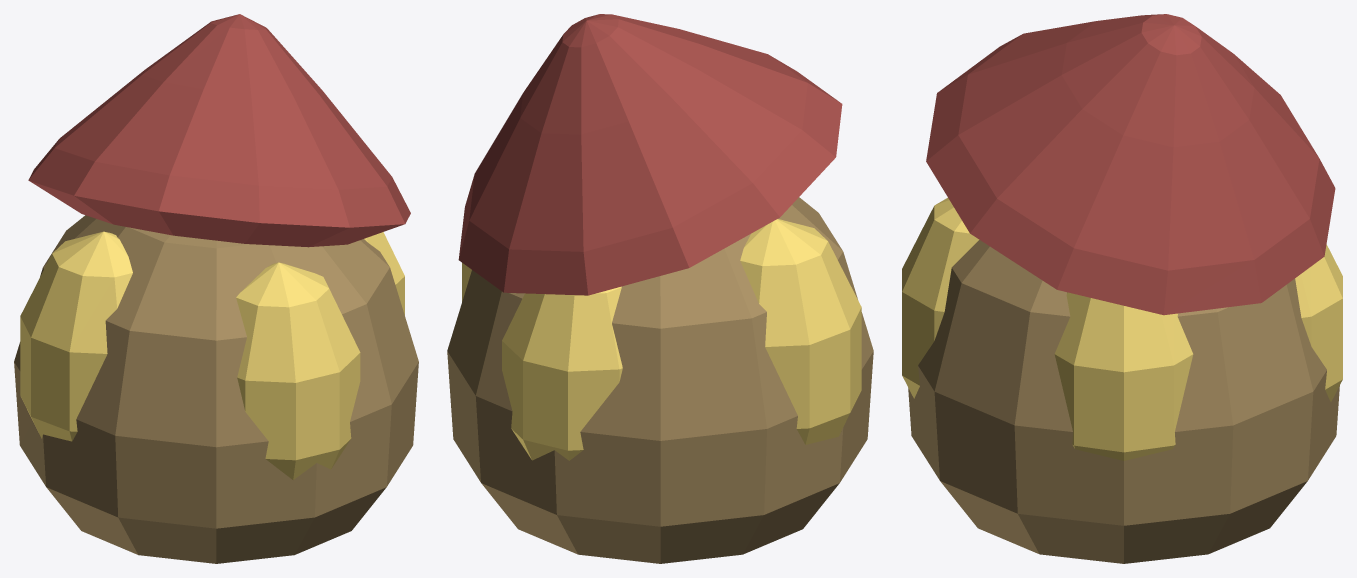
File: plant_boomshroom_c.obj
3 views of the same model, side by side, from view 1: azimuth 30°, elevation 25°; view 2: azimuth 150°, elevation 25°; view 3: azimuth 270°, elevation 25° (orthographic). The views are drawn at different scales.
Visible parts, largest first — view 1: plant_boomshroom_c_0, plant_boomshroom_c_5, plant_boomshroom_c_4, plant_boomshroom_c_3, plant_boomshroom_c_1; view 2: plant_boomshroom_c_0, plant_boomshroom_c_5, plant_boomshroom_c_3, plant_boomshroom_c_2; view 3: plant_boomshroom_c_5, plant_boomshroom_c_0, plant_boomshroom_c_1, plant_boomshroom_c_4, plant_boomshroom_c_2.
Boxes of the visible parts, left/top/right/bottom form: plant_boomshroom_c_0: left=14, top=215, right=418, bottom=563; plant_boomshroom_c_5: left=28, top=14, right=410, bottom=247; plant_boomshroom_c_4: left=236, top=262, right=360, bottom=479; plant_boomshroom_c_3: left=20, top=231, right=132, bottom=441; plant_boomshroom_c_1: left=364, top=232, right=404, bottom=315; plant_boomshroom_c_0: left=447, top=197, right=873, bottom=563; plant_boomshroom_c_5: left=458, top=14, right=842, bottom=295; plant_boomshroom_c_3: left=740, top=219, right=861, bottom=444; plant_boomshroom_c_2: left=502, top=286, right=622, bottom=460; plant_boomshroom_c_5: left=926, top=14, right=1335, bottom=315; plant_boomshroom_c_0: left=908, top=240, right=1339, bottom=563; plant_boomshroom_c_1: left=1054, top=292, right=1193, bottom=460; plant_boomshroom_c_4: left=902, top=198, right=979, bottom=398; plant_boomshroom_c_2: left=1295, top=244, right=1342, bottom=401.
Bounding box in the file's own units: 0.721 × 0.8688 × 0.7053.
